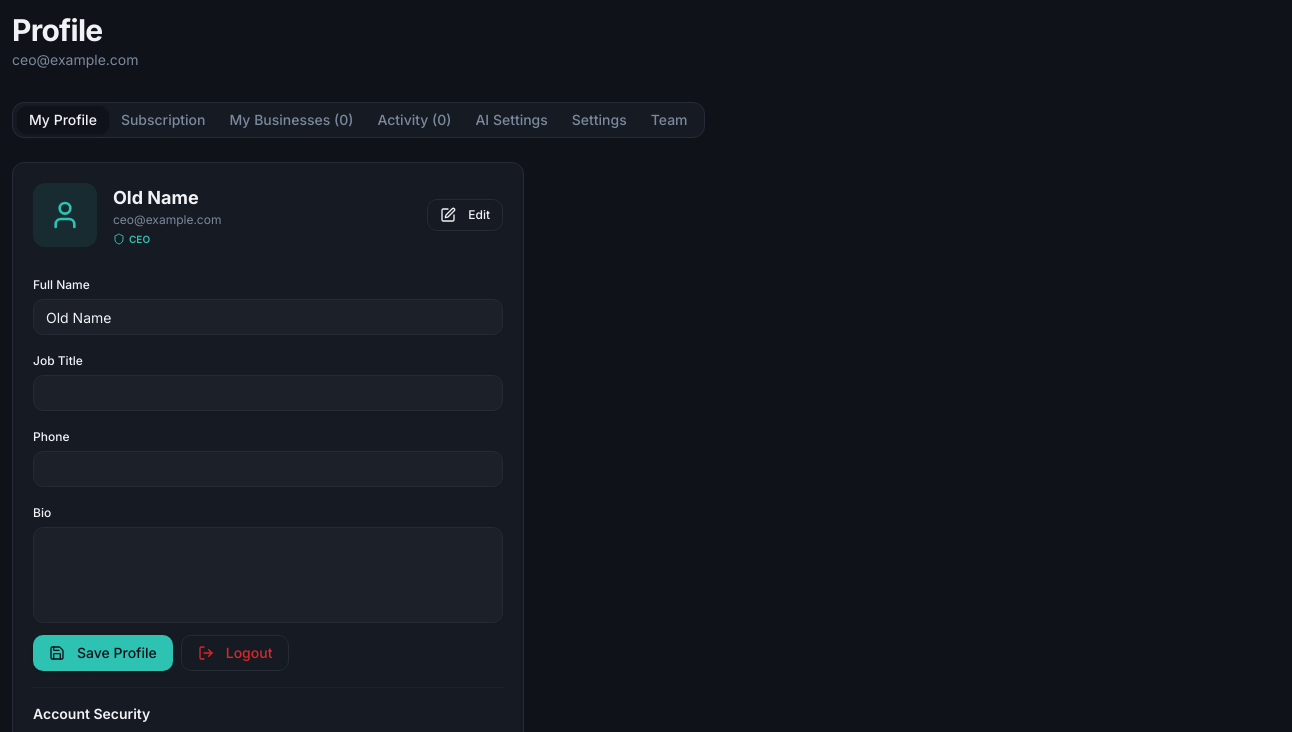
Profile team roster › lists the super-admin alongside everyone else
Note: Radix Tabs switch on mousedown, not click.
Press the mouse on the tab "Team" at (669,120), box [639,106,700,134]
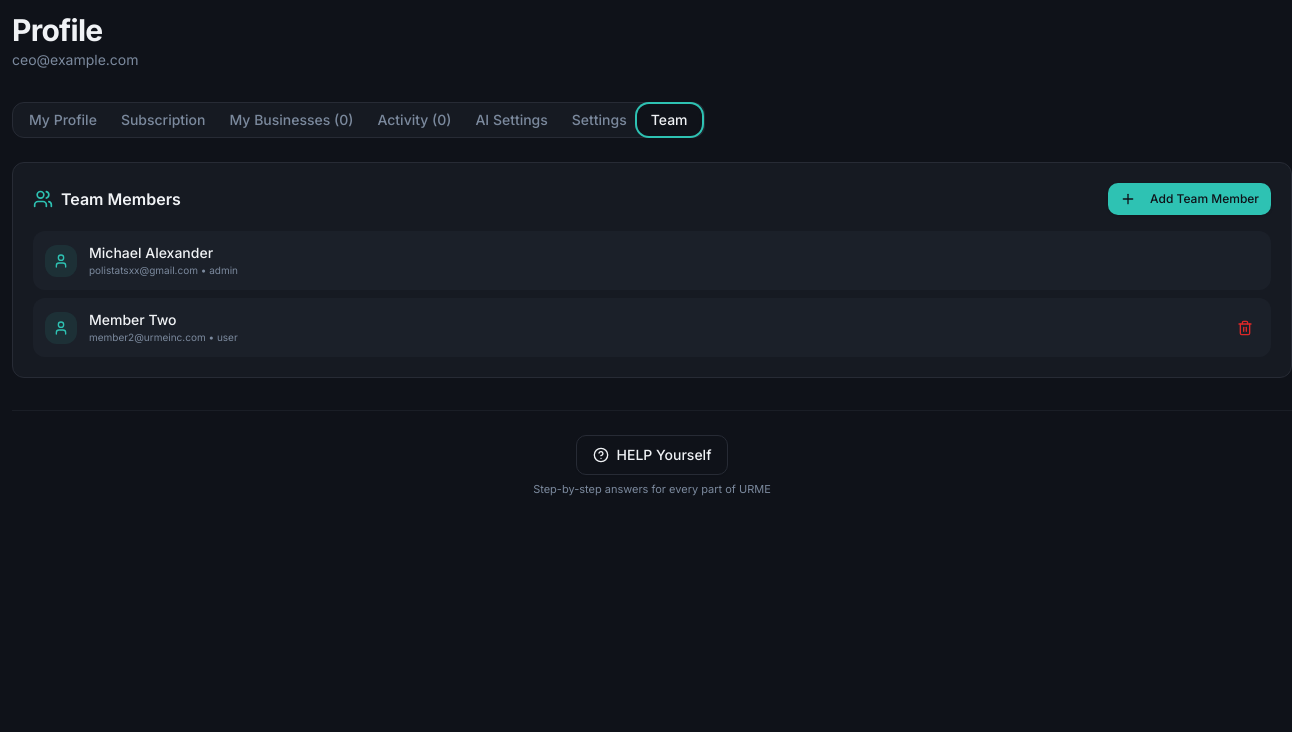
Expected: the text "Michael Alexander" is shown, [89,244,213,261]
Expected: the text "Member Two" is shown, [89,311,177,328]
